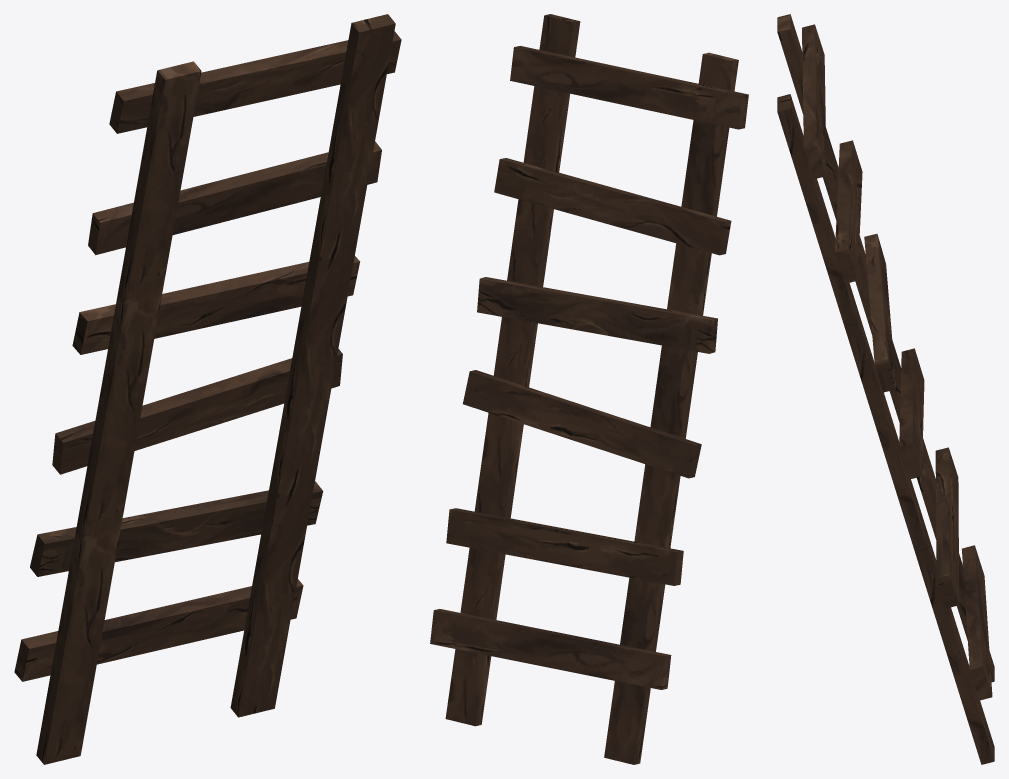
File: Short ladder.fbx
3 views of the same model, side by side, from view 1: azimuth 30°, elevation 25°; view 2: azimuth 150°, elevation 25°; view 3: azimuth 270°, elevation 25° (orthographic). The views are drawn at different scales.
Parts seen in each view (by area): view 1: Short_ladder1; view 2: Short_ladder1; view 3: Short_ladder1.
Part boxes in pixels (bbox=[...]): Short_ladder1: bbox=[14, 14, 401, 764]; Short_ladder1: bbox=[430, 14, 748, 764]; Short_ladder1: bbox=[777, 14, 994, 764].
Size of the model in its own units: 1.16 by 3.06 by 0.9165.
